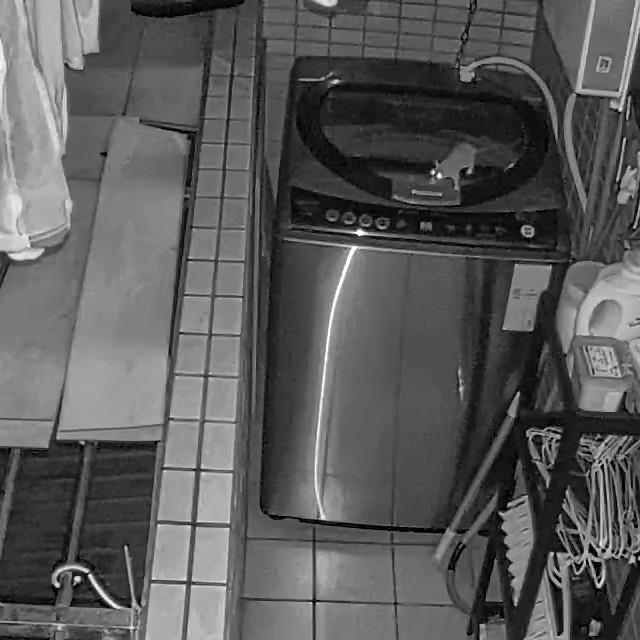rat: (429, 138, 521, 193)
